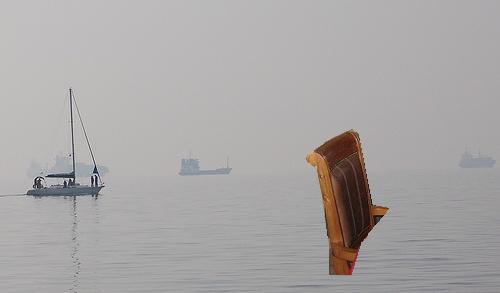tampered: (307, 130, 389, 275)
